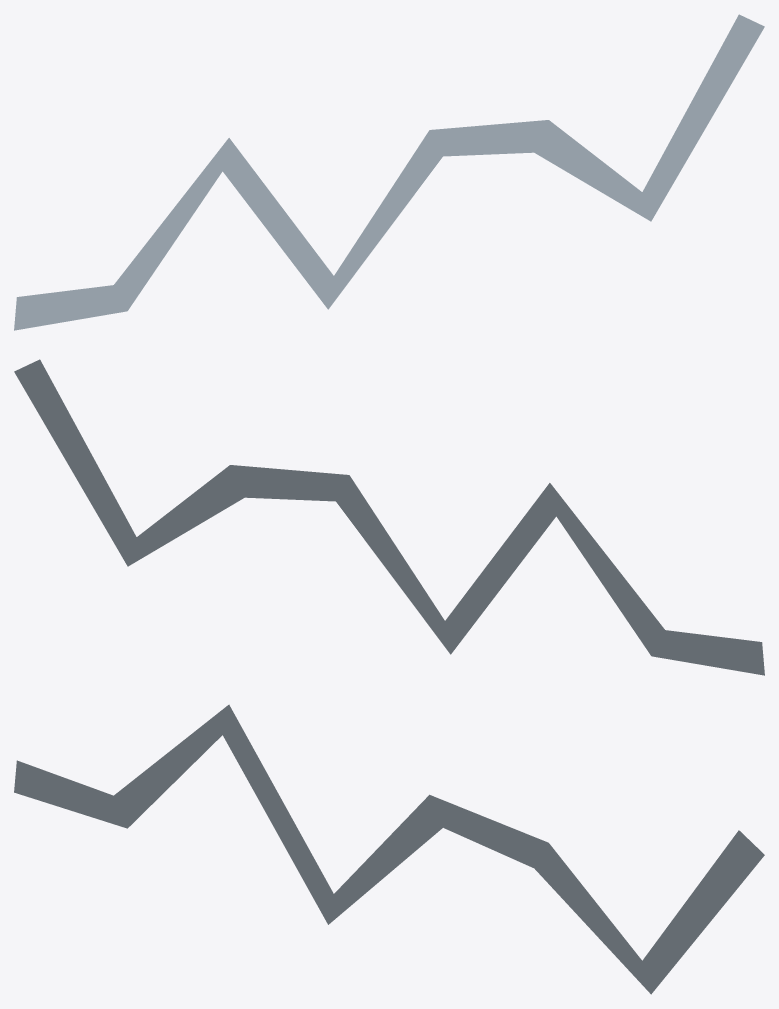
The model's file is 2059_StaticField_GroundArc60.fbx.
3 renders of one model, top to bottom at view 1: azimuth 30°, elevation 25°; view 2: azimuth 150°, elevation 25°; view 3: azimuth 330°, elevation 25°, orthographic.
Parts seen in each view (by area): view 1: PART_GroundArc60; view 2: PART_GroundArc60; view 3: PART_GroundArc60.
Part boxes in pixels (x1,y1,x2,y2): PART_GroundArc60: (14, 14, 764, 330); PART_GroundArc60: (14, 359, 764, 675); PART_GroundArc60: (14, 704, 764, 994).
Bounding box in the file's own units: 71.37 × 17.85 × 2.91e-06.
